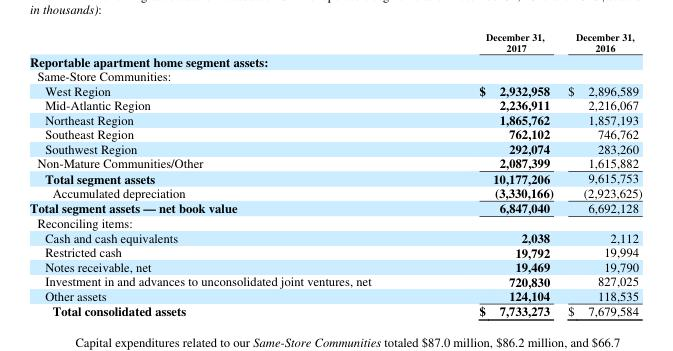table: (29, 29, 641, 319)
table column: (29, 29, 424, 319), (424, 29, 560, 319), (560, 29, 641, 319)
table column header: (29, 29, 641, 53)
table projected row header: (29, 53, 641, 68), (29, 68, 641, 82), (29, 215, 641, 229)
table row: (29, 29, 641, 53), (29, 303, 641, 319), (29, 53, 641, 68), (29, 82, 641, 97), (29, 97, 641, 112), (29, 126, 641, 141), (29, 155, 641, 170), (29, 170, 641, 185), (29, 185, 641, 200), (29, 200, 641, 215), (29, 229, 641, 244), (29, 244, 641, 259), (29, 273, 641, 288), (29, 288, 641, 303), (29, 68, 641, 82), (29, 112, 641, 126), (29, 141, 641, 155), (29, 215, 641, 229), (29, 259, 641, 273)
